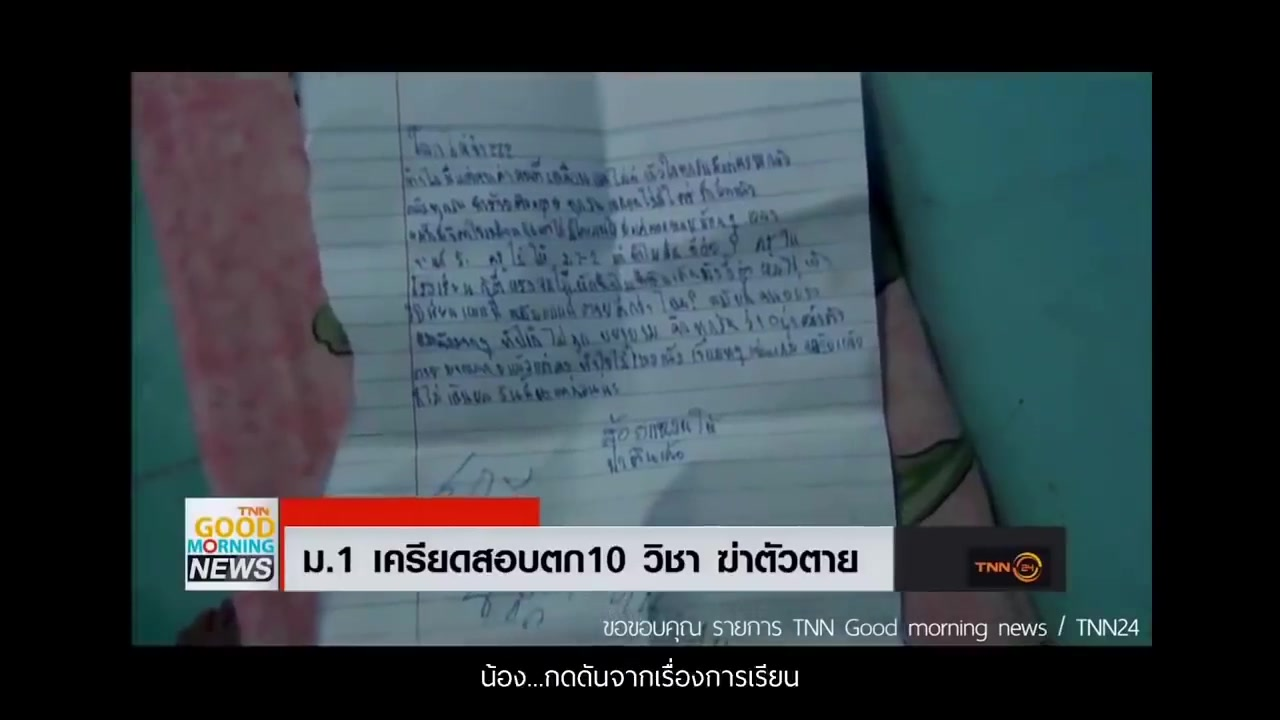text-label: (480, 652, 800, 693)
